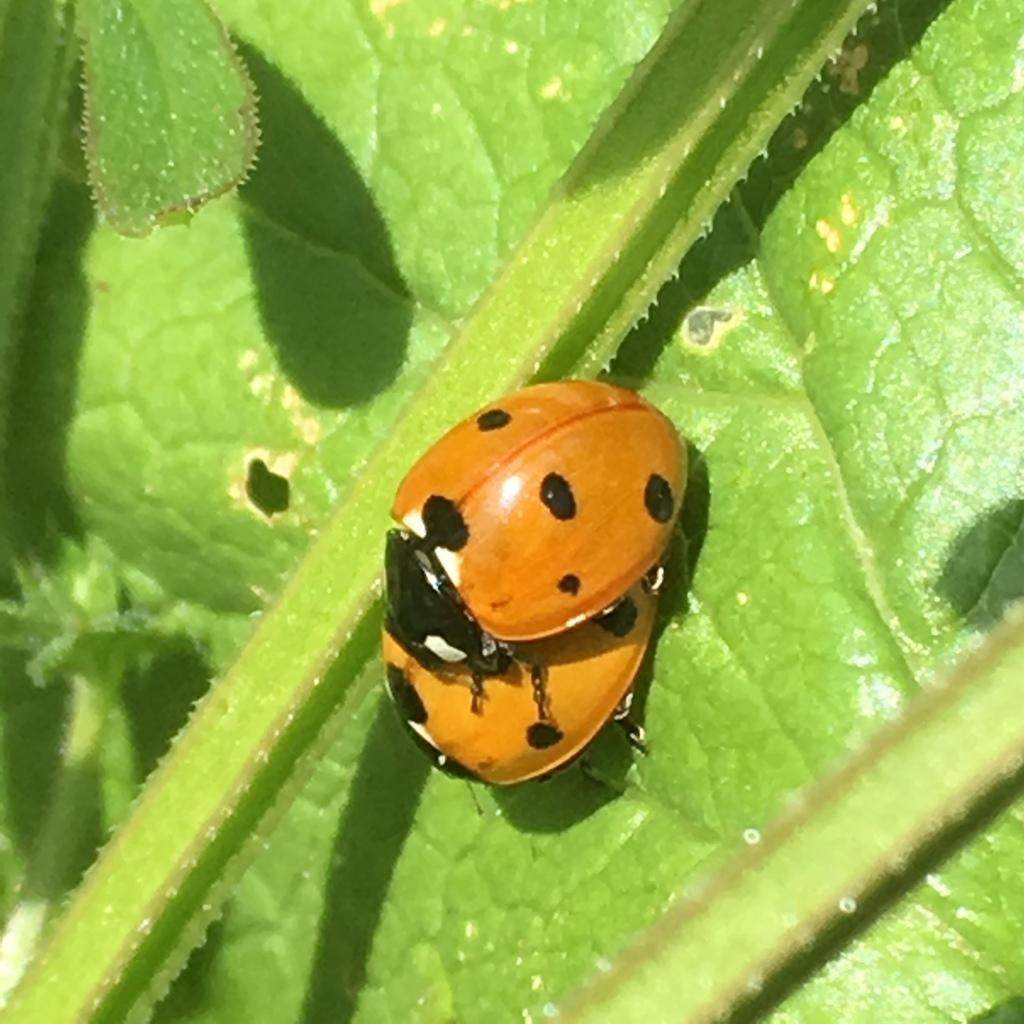ladybug: (379, 371, 701, 729), (381, 554, 679, 801)
